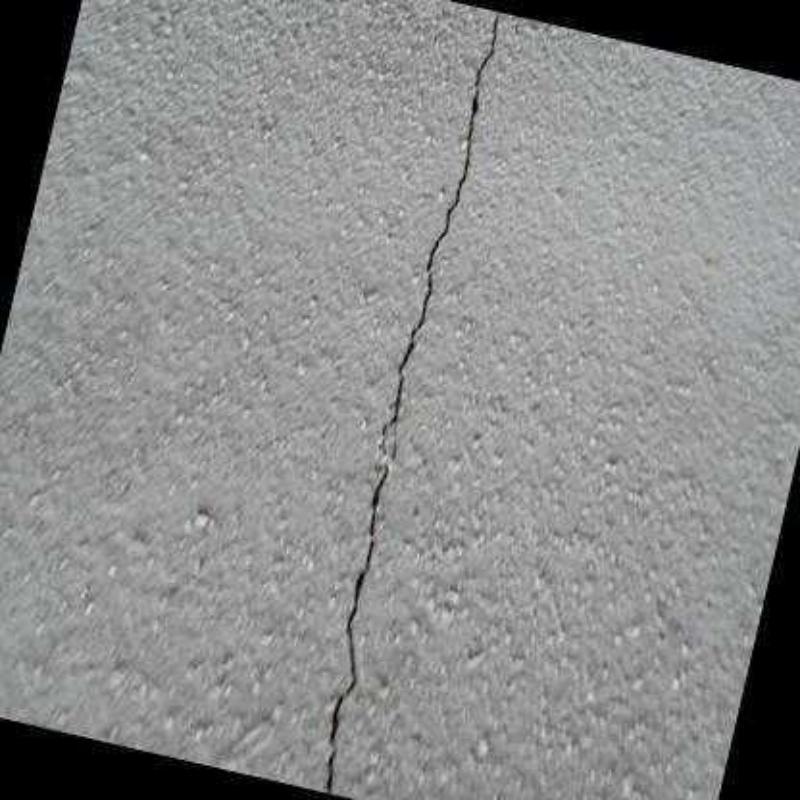crack: (325, 11, 500, 795)
